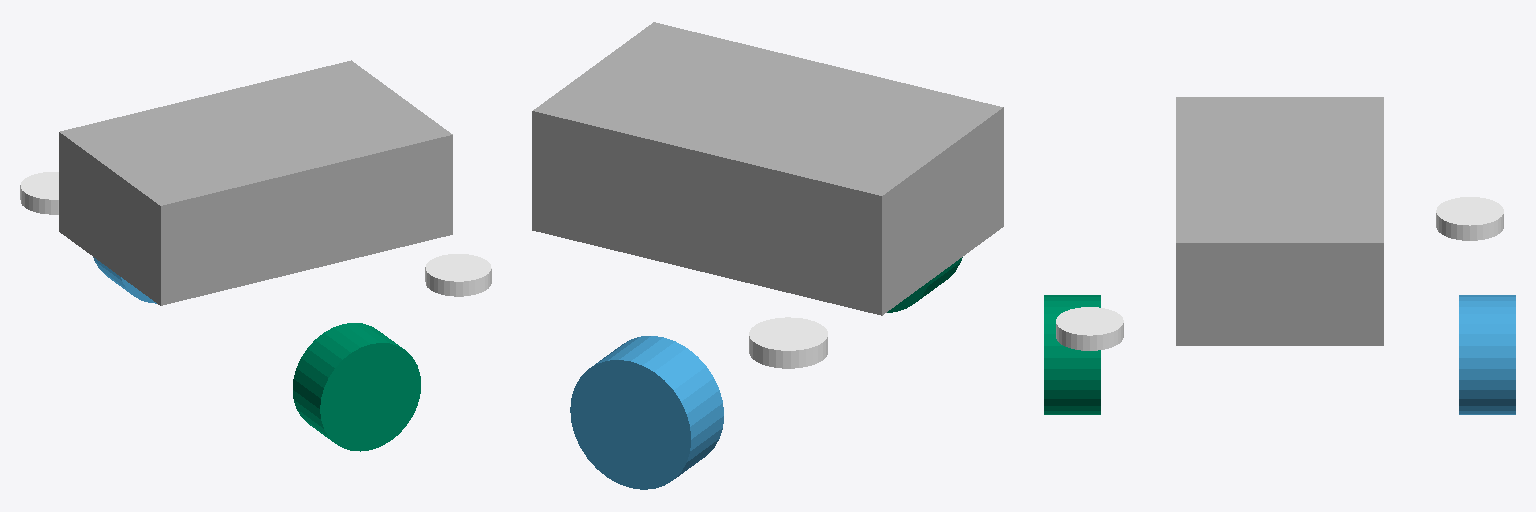
The robot description file, URDF, robot "my_robot":
<?xml version="1.0" ?>
<!-- =================================================================================== -->
<!-- |    This document was autogenerated by xacro from [local-path]/agv_ws/src/hey_agv/urdf/dose_car.urdf.xacro | -->
<!-- |    EDITING THIS FILE BY HAND IS NOT RECOMMENDED                                 | -->
<!-- =================================================================================== -->
<robot name="my_robot">
  <material name="blue">
    <color rgba="0 0 0.5 1"/>
  </material>
  <material name="grey">
    <color rgba="0.5 0.5 0.5 1"/>
  </material>
  <material name="white">
    <color rgba="1.0 1.0 1.0 1"/>
  </material>
  <material name="silver">
    <color rgba="0.75 0.75 0.75 1"/>
  </material>
  <link name="base_link">
    <visual>
      <geometry>
        <mesh filename="file://[local-path]/agv_ws/install/hey_agv/share/hey_agv/urdf/meshes/agv_base.dae"/>
      </geometry>
      <origin rpy="0 0 1.5708" xyz="0 0 0"/>
      <material name="blue"/>
    </visual>
    <inertial>
      <origin rpy="0 0 0" xyz="0 0 0"/>
      <mass value="18.0"/>
      <inertia ixx="0.350412" ixy="0" ixz="0" iyy="0.60531" iyz="0" izz="0.31538999999999995"/>
    </inertial>
    <collision>
      <geometry>
        <mesh filename="file://[local-path]/agv_ws/install/hey_agv/share/hey_agv/urdf/meshes/agv_base.dae"/>
      </geometry>
      <origin rpy="0 0 1.5708" xyz="0 0 0"/>
    </collision>
  </link>
  <link name="right_wheel_link">
    <visual>
      <geometry>
        <cylinder length="0.05" radius="0.053"/>
      </geometry>
      <origin rpy="1.5707963267948966 0 0" xyz="0 0 0"/>
      <material name="red"/>
    </visual>
    <collision>
      <geometry>
        <cylinder length="0.05" radius="0.053"/>
      </geometry>
      <origin rpy="1.5707963267948966 0 0" xyz="0 0 0"/>
    </collision>
    <inertial>
      <origin rpy="1.5707963267948966 0 0" xyz="0 0 0"/>
      <mass value="0.5"/>
      <inertia ixx="0.0007677916666666667" ixy="0" ixz="0" iyy="0.0007677916666666667" iyz="0" izz="0.00070225"/>
    </inertial>
  </link>
  <link name="left_wheel_link">
    <visual>
      <geometry>
        <cylinder length="0.05" radius="0.053"/>
      </geometry>
      <origin rpy="1.5707963267948966 0 0" xyz="0 0 0"/>
      <material name="red"/>
    </visual>
    <collision>
      <geometry>
        <cylinder length="0.05" radius="0.053"/>
      </geometry>
      <origin rpy="1.5707963267948966 0 0" xyz="0 0 0"/>
    </collision>
    <inertial>
      <origin rpy="1.5707963267948966 0 0" xyz="0 0 0"/>
      <mass value="0.5"/>
      <inertia ixx="0.0007677916666666667" ixy="0" ixz="0" iyy="0.0007677916666666667" iyz="0" izz="0.00070225"/>
    </inertial>
  </link>
  <joint name="base_right_wheel_joint" type="continuous">
    <parent link="base_link"/>
    <child link="right_wheel_link"/>
    <origin rpy="0 0 0" xyz="0 0.183 0.041"/>
    <axis xyz="0 1 0"/>
  </joint>
  <joint name="base_left_wheel_joint" type="continuous">
    <parent link="base_link"/>
    <child link="left_wheel_link"/>
    <origin rpy="0 0 0" xyz="0 -0.183 0.041"/>
    <axis xyz="0 1 0"/>
  </joint>
  <link name="lidar_link_right">
    <visual>
      <geometry>
        <cylinder length="0.015" radius="0.03"/>
      </geometry>
      <origin rpy="0 0 0" xyz="0 0 0"/>
      <material name="white"/>
    </visual>
    <collision>
      <geometry>
        <cylinder length="0.015" radius="0.03"/>
      </geometry>
      <origin rpy="0 0 0" xyz="0 0 0"/>
    </collision>
  </link>
  <joint name="lidar_right_base_joint" type="fixed">
    <parent link="base_link"/>
    <child link="lidar_link_right"/>
    <origin rpy="0 0 0" xyz="0.115 -0.16789 0.12"/>
  </joint>
  <link name="lidar_link_left">
    <visual>
      <geometry>
        <cylinder length="0.015" radius="0.03"/>
      </geometry>
      <origin rpy="0 0 0" xyz="0 0 0"/>
      <material name="white"/>
    </visual>
    <collision>
      <geometry>
        <cylinder length="0.015" radius="0.03"/>
      </geometry>
      <origin rpy="0 0 0" xyz="0 0 0"/>
    </collision>
  </link>
  <joint name="lidar_left_base_joint" type="fixed">
    <parent link="base_link"/>
    <child link="lidar_link_left"/>
    <origin rpy="0 0 0" xyz="-0.115 0.16789 0.12"/>
  </joint>
  <!-- make a square lift -->
  <link name="lift_link">
    <visual>
      <geometry>
        <box size="0.184 0.306 0.1"/>
      </geometry>
      <origin rpy="0 0 0" xyz="0 0 0"/>
      <material name="silver"/>
    </visual>
    <collision>
      <geometry>
        <box size="0.184 0.306 0.1"/>
      </geometry>
      <origin rpy="0 0 0" xyz="0 0 0"/>
    </collision>
    <inertial>
      <origin rpy="0 0 0" xyz="0 0 0"/>
      <mass value="3.0"/>
      <inertia ixx="0.025909" ixy="0" ixz="0" iyy="0.031873" iyz="0" izz="0.010964"/>
    </inertial>
  </link>
  <joint name="lift_base_joint" type="prismatic">
    <parent link="base_link"/>
    <child link="lift_link"/>
    <origin rpy="0 0 1.5708" xyz="0 0 0"/>
    <limit effort="1000.0" lower="0.155" upper="0.187" velocity="1.0"/>
    <axis xyz="0 0 1"/>
  </joint>
  <gazebo reference="base_link">
    <material>Gazebo/Black</material>
  </gazebo>
  <gazebo reference="right_wheel_link">
    <material>Gazebo/Red</material>
  </gazebo>
  <gazebo reference="left_wheel_link">
    <material>Gazebo/Red</material>
  </gazebo>
  <gazebo reference="lidar_link_right">
    <material>Gazebo/White</material>
    <sensor name="gpu_lidar1" type="gpu_lidar">
      &quot;
            
      <pose relative_to="lidar_link_right">0 0 0 0 0 0</pose>
      <topic>lidar1</topic>
      <update_rate>10</update_rate>
      <ray>
        <scan>
          <horizontal>
            <samples>640</samples>
            <resolution>1</resolution>
            <min_angle>-3.14</min_angle>
            <max_angle>3.14</max_angle>
          </horizontal>
          <vertical>
            <samples>1</samples>
            <resolution>0.01</resolution>
            <min_angle>0</min_angle>
            <max_angle>0</max_angle>
          </vertical>
        </scan>
        <range>
          <min>0.08</min>
          <max>10.0</max>
          <resolution>0.01</resolution>
        </range>
      </ray>
      <always_on>1</always_on>
      <visualize>true</visualize>
    </sensor>
  </gazebo>
  <gazebo reference="lidar_link_left">
    <material>Gazebo/White</material>
    <sensor name="gpu_lidar2" type="gpu_lidar">
      &quot;
            
      <pose relative_to="lidar_link_left">0 0 0 0 0 0</pose>
      <topic>lidar2</topic>
      <update_rate>10</update_rate>
      <ray>
        <scan>
          <horizontal>
            <samples>640</samples>
            <resolution>1</resolution>
            <min_angle>-3.14</min_angle>
            <max_angle>3.14</max_angle>
          </horizontal>
          <vertical>
            <samples>1</samples>
            <resolution>0.01</resolution>
            <min_angle>0</min_angle>
            <max_angle>0</max_angle>
          </vertical>
        </scan>
        <range>
          <min>0.08</min>
          <max>10.0</max>
          <resolution>0.01</resolution>
        </range>
      </ray>
      <always_on>1</always_on>
      <visualize>true</visualize>
    </sensor>
  </gazebo>
  <gazebo>
    <plugin filename="gz-sim-diff-drive-system" name="gz::sim::systems::DiffDrive">
      <left_joint>base_left_wheel_joint</left_joint>
      <right_joint>base_right_wheel_joint</right_joint>
      <wheel_separation>0.366</wheel_separation>
      <wheel_radius>0.053</wheel_radius>
      <odom_publish_frequency>10</odom_publish_frequency>
      <topic>cmd_vel</topic>
    </plugin>
    <plugin filename="gz-sim-sensors-system" name="gz::sim::systems::Sensors">
      <render_engine>ogre2</render_engine>
    </plugin>
  </gazebo>
  <!-- <link name="caster_wheel_link"> 
        <visual>
            <geometry>
                <sphere radius="${wheel_radius / 2.0}" />
            </geometry>
            <origin xyz="0 0 0" rpy="0 0 0" />
            <material name="grey" />
        </visual>
        <collision>
            <geometry>
                <sphere radius="${wheel_radius / 2.0}" />
            </geometry>
             <origin xyz="0 0 0" rpy="0 0 0" />
        </collision>
        
        <xacro:sphere_inertia m="0.5" r="${wheel_radius / 2.0}" xyz="0 0 0" rpy="0 0 0" />
    </link>

    
        
    

    


    <joint name="base_joint" type="fixed">
        <parent link="base_link" />
        <child link="base_footprint" />
        <origin xyz="0 0 ${wheel_radius}" rpy="0 0 0"/>
    </joint>

    

    <joint name="base_caster_wheel_joint" type="fixed">
        <parent link="base_link" />
        <child link="caster_wheel_link" />
        <origin xyz="${base_length / 3.0} 0 ${-wheel_radius / 2.0}" rpy="0 0 0" />
    </joint> -->
</robot>

--- Render facts (derived) ---
Views: 3 orthographic renders of the robot side by side, from view 1: azimuth 30°, elevation 25°; view 2: azimuth 150°, elevation 25°; view 3: azimuth 270°, elevation 25°.
Robot: my_robot — 6 links, 5 joints (2 continuous, 1 prismatic, 2 fixed); root link base_link; default pose: joints at zero except 1 at the middle of their limits (lift_base_joint = 0.171).
Links seen in each view (by area): view 1: lift_link, left_wheel_link, lidar_link_right, lidar_link_left; view 2: lift_link, right_wheel_link, lidar_link_left, left_wheel_link; view 3: lift_link, right_wheel_link, left_wheel_link, lidar_link_left, lidar_link_right.
Boxes of the visible links, <box> form: lift_link: <box>59,60,452,305</box>; left_wheel_link: <box>293,323,420,451</box>; lidar_link_right: <box>425,254,491,296</box>; lidar_link_left: <box>20,172,58,214</box>; lift_link: <box>532,22,1003,315</box>; right_wheel_link: <box>570,336,723,489</box>; lidar_link_left: <box>749,317,827,368</box>; left_wheel_link: <box>887,257,962,312</box>; lift_link: <box>1176,97,1383,345</box>; right_wheel_link: <box>1459,295,1515,414</box>; left_wheel_link: <box>1044,295,1100,414</box>; lidar_link_left: <box>1436,197,1503,240</box>; lidar_link_right: <box>1056,307,1123,350</box>.
Bounding box of the posed robot: 0.306 × 0.416 × 0.233 m (x, y, z).
Geometry: only primitive shapes (box / cylinder / sphere) drawn; not drawn: 1 mesh visual (reference in a form the renderer does not follow).